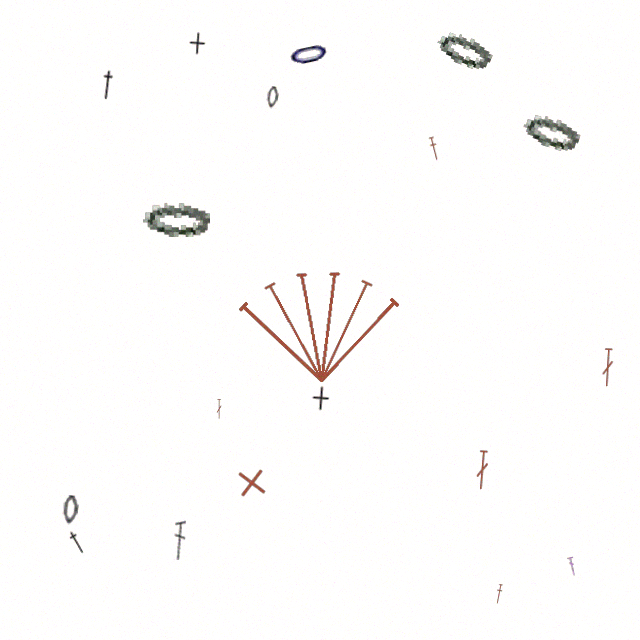chain: (433, 26, 496, 74), (520, 109, 583, 155), (143, 201, 210, 237), (285, 34, 333, 73), (62, 495, 79, 525), (266, 86, 279, 109)
double: (474, 450, 490, 490), (600, 348, 615, 387), (173, 520, 186, 560), (567, 556, 577, 576), (216, 399, 222, 419)
fan: (233, 254, 407, 386)
half_double: (65, 528, 89, 556), (97, 69, 118, 101), (427, 136, 441, 161), (494, 584, 504, 604)
single: (233, 464, 270, 501), (311, 386, 330, 411), (188, 32, 206, 55)
